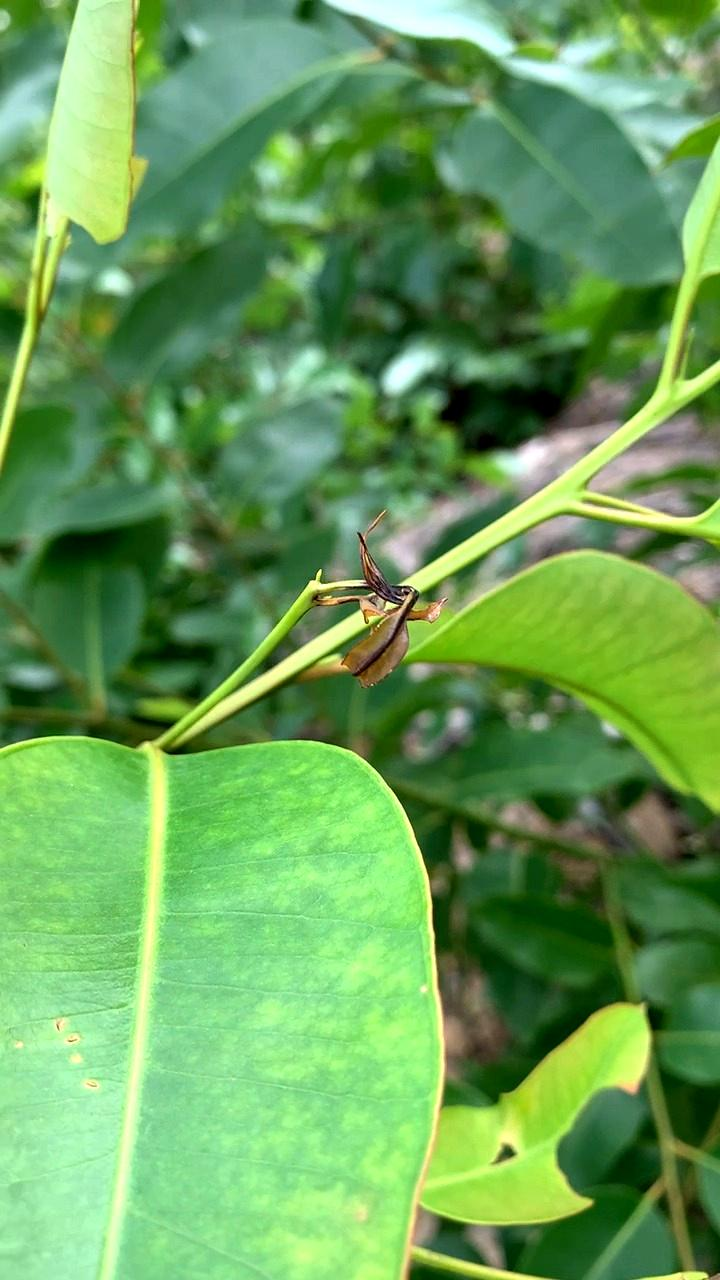Helopeltis-Withered Sprout: (326, 536, 441, 689)
